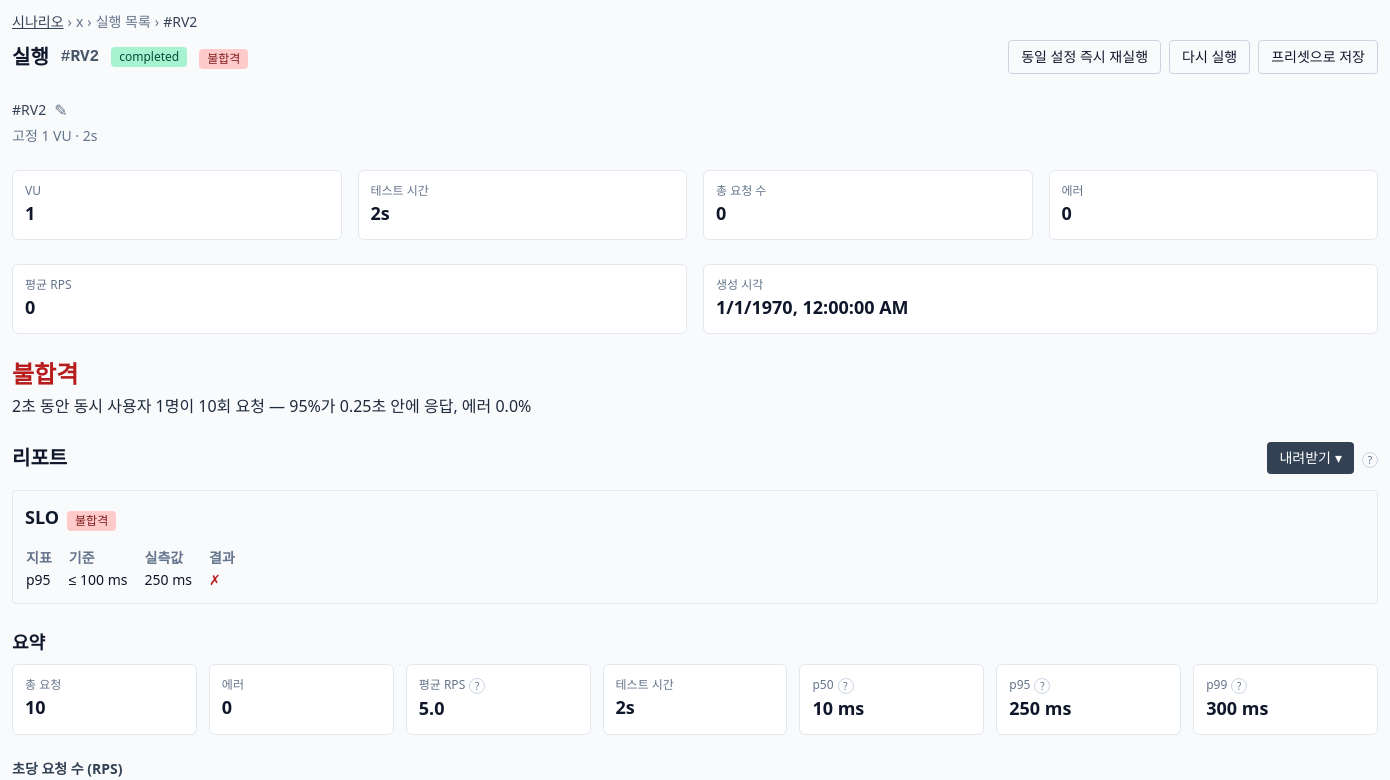
Test: RunDetailPage — heading과 배지 분리 (a11y-bundle C2) › FAIL popover 열림 상태에서 h2 접근명 = '실행 RV2' (배지·미달 기준 미합류)
Step 1. Click the button "불합격" → (224, 59), box x1=199 y1=49 x2=248 y2=69
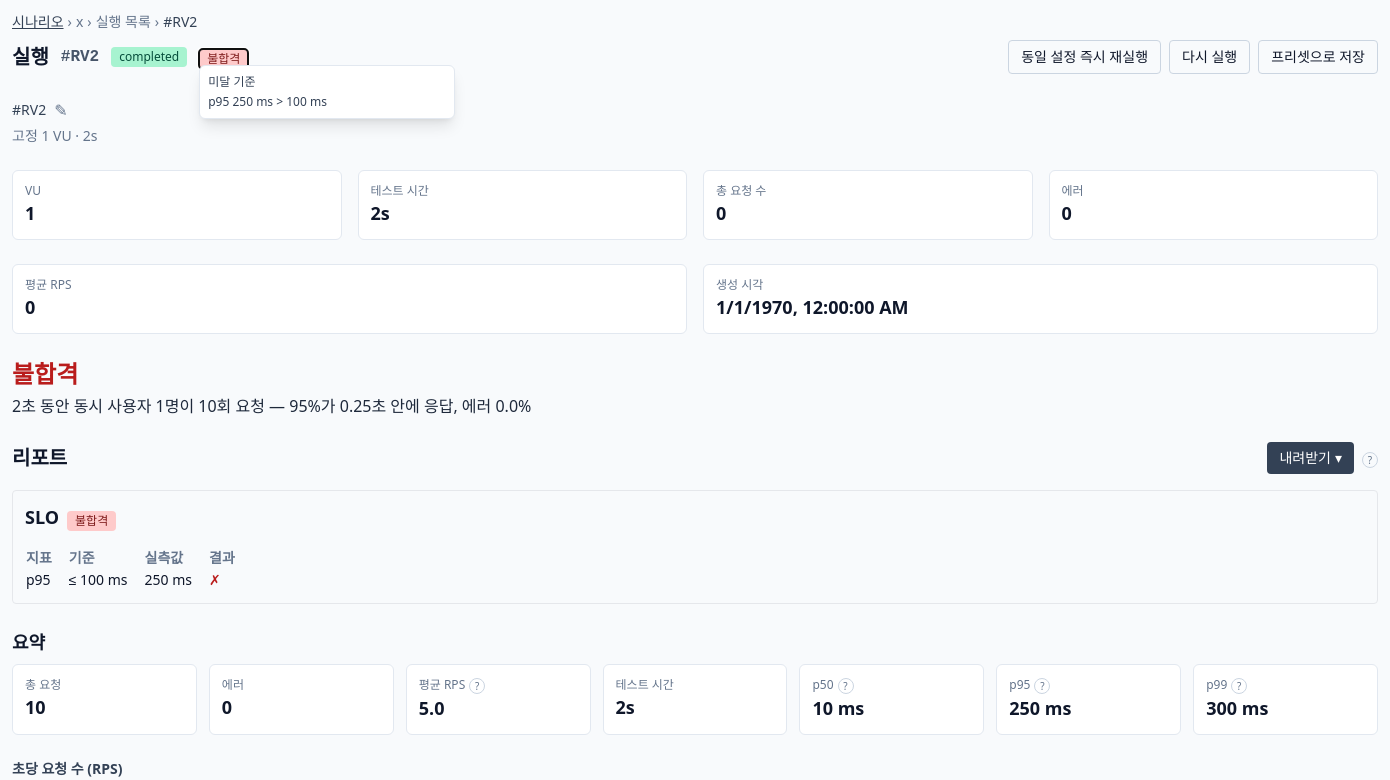
Result: the text "미달 기준" is shown at x1=208 y1=73 x2=256 y2=90
